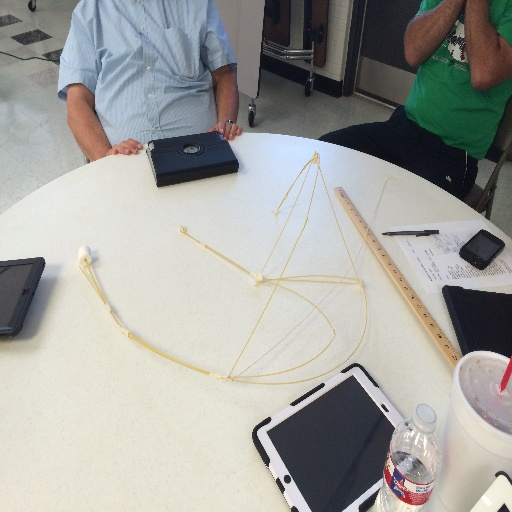hand: (205, 115, 242, 140), (106, 136, 144, 155)
